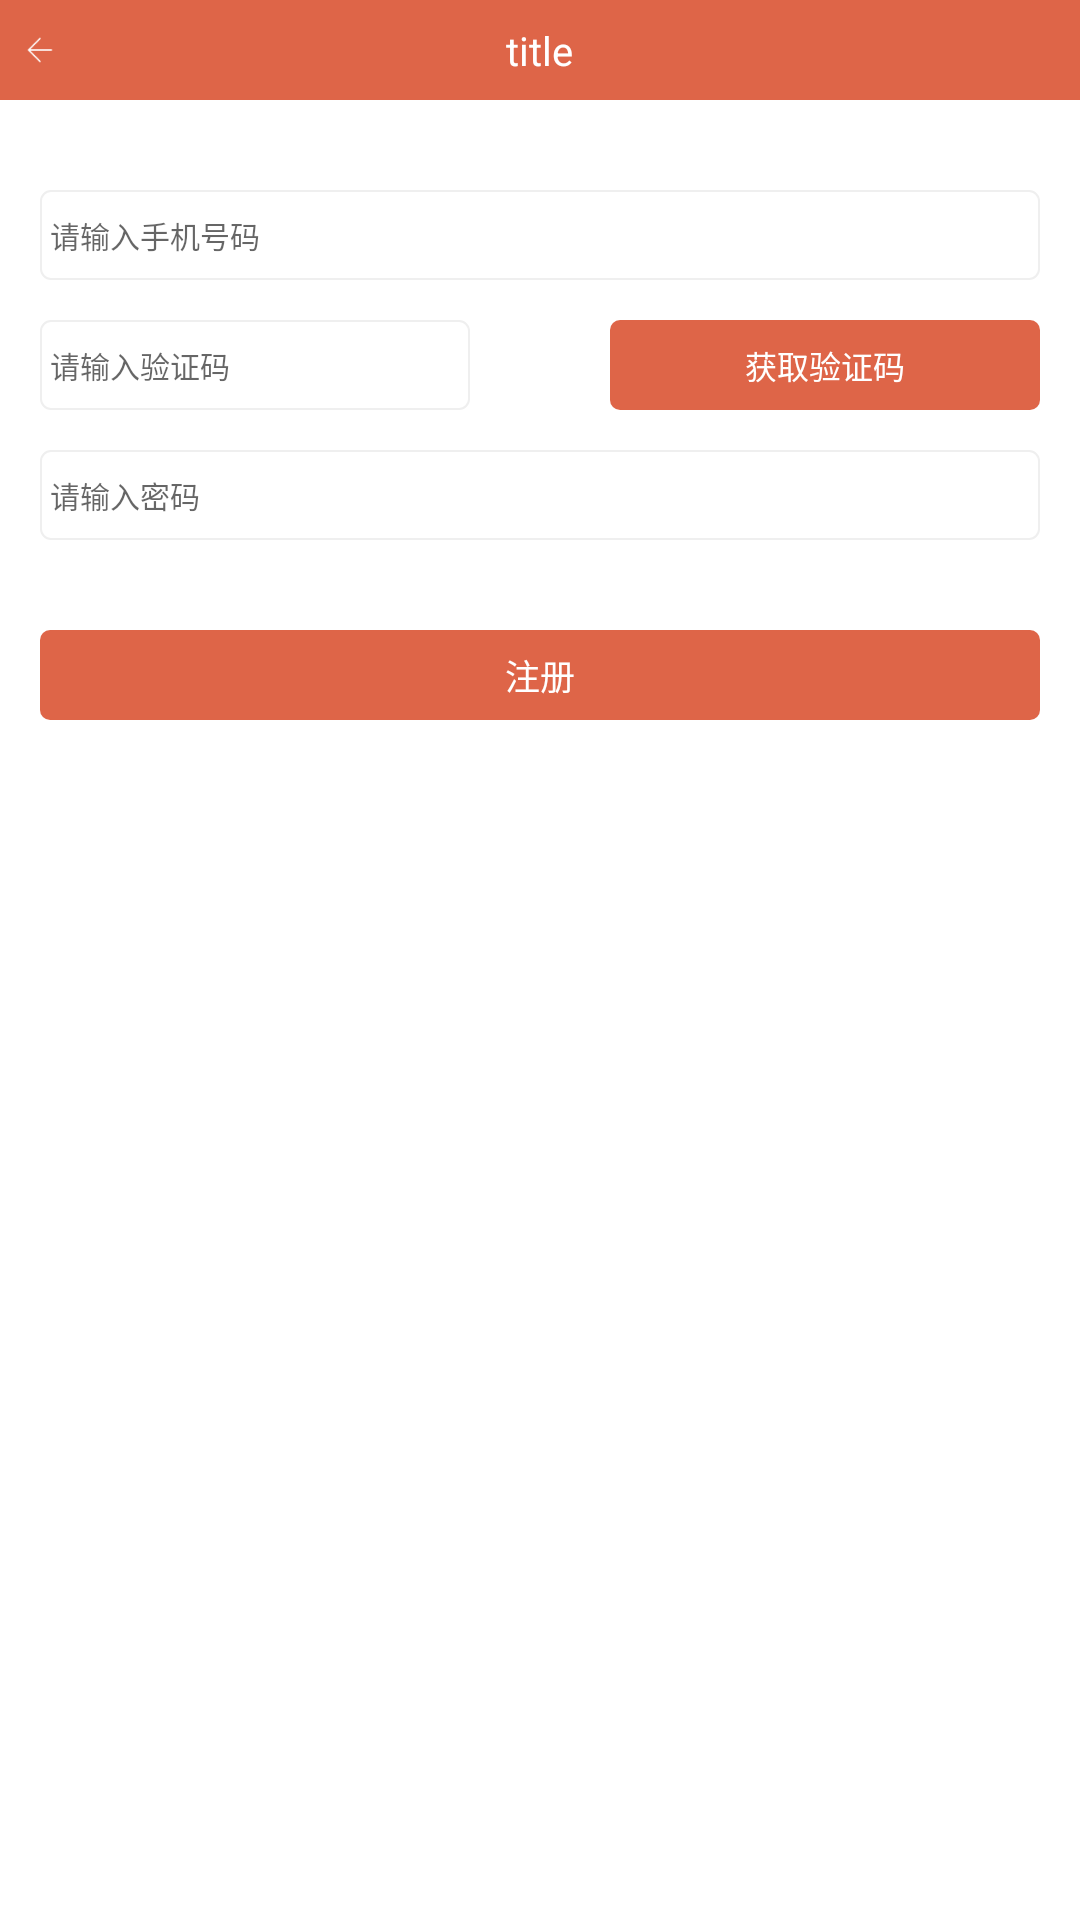

Icons on this 1080px x 1920px Android screen, each with the point to tap as point (x, y):
back: point (39, 50)
